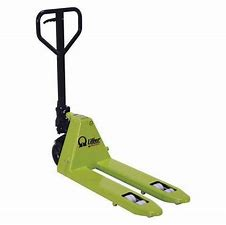Pallet Jack: (35, 5, 191, 218)
